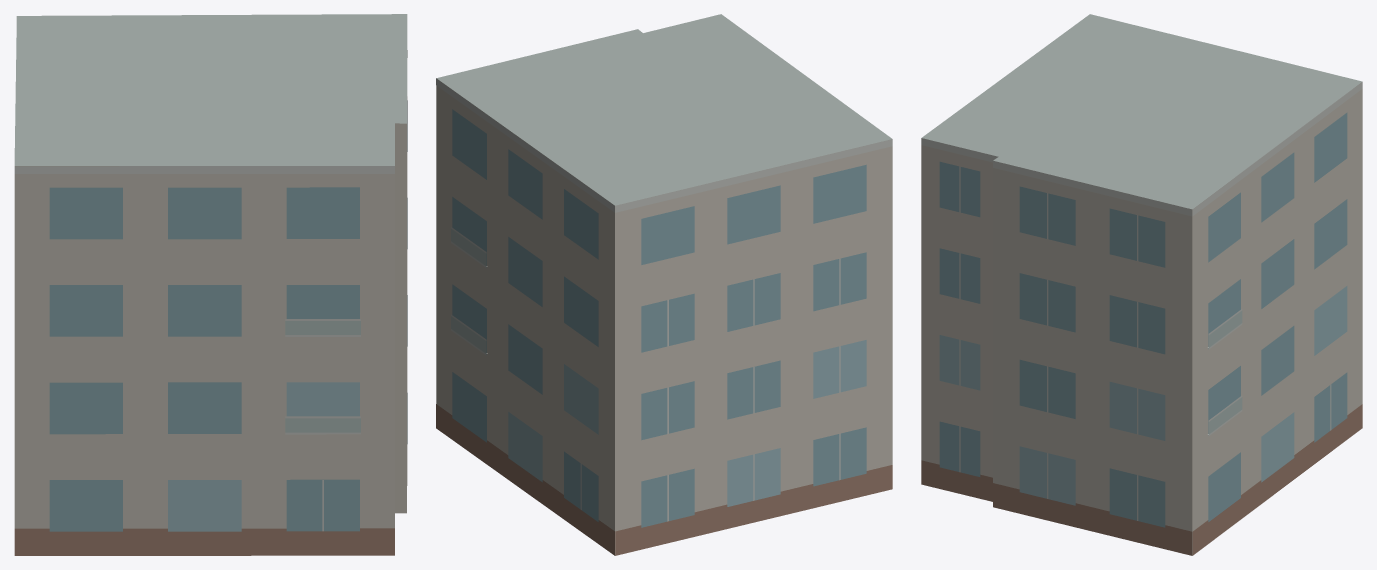
The model's file is survey-upis-32868988.glb.
The picture shows the model from 3 angles, left to right: view 1: azimuth 30°, elevation 25°; view 2: azimuth 150°, elevation 25°; view 3: azimuth 270°, elevation 25°; orthographic projection. The views are drawn at different scales.
Visible parts, largest first — view 1: survey-upis-32868988.tmp; view 2: survey-upis-32868988.tmp; view 3: survey-upis-32868988.tmp.
Boxes of the visible parts, left/top/right/bottom form: survey-upis-32868988.tmp: left=14, top=14, right=407, bottom=555; survey-upis-32868988.tmp: left=436, top=14, right=892, bottom=555; survey-upis-32868988.tmp: left=921, top=14, right=1362, bottom=555.
Size of the model in its own units: 14.4 by 11.9 by 13.75.
